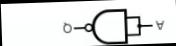nand: (81, 4, 129, 46)
